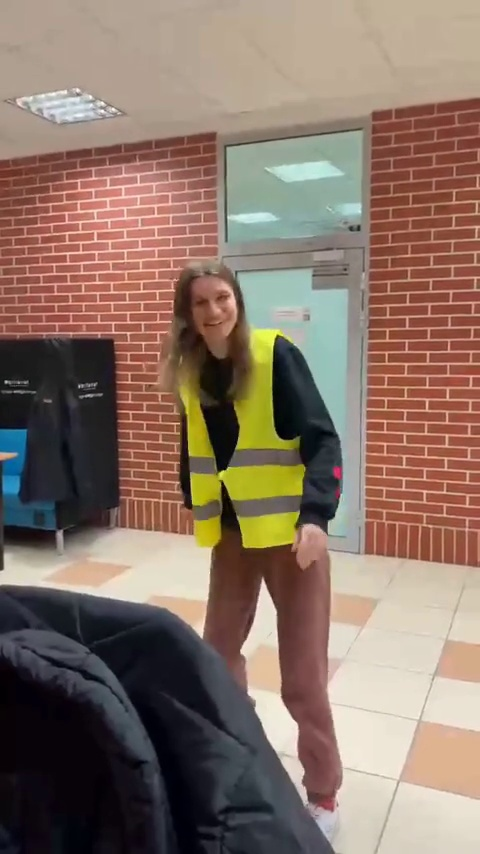vest: (145, 252, 357, 822)
